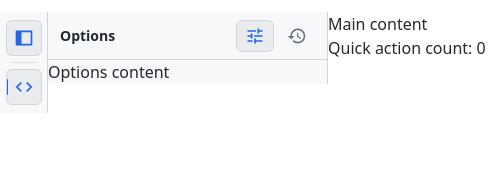
Test case: ToolWorkspaceShell › runs quick actions from the collapsed rail
The width and height of the screenshot is (502, 172).
Click the button named "Close sidebar" at {"x": 24, "y": 38}, box [6, 20, 42, 56]
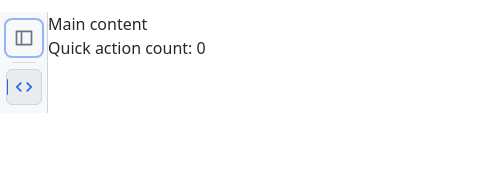
Click the button named "Layout: Split - switch to Unified" at {"x": 24, "y": 87}, box [6, 69, 42, 105]
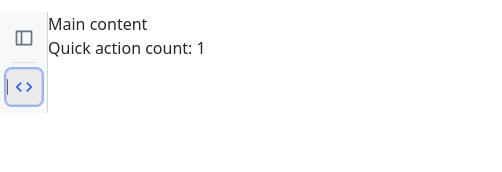
Expected: the text "Quick action count: 1" is shown, [48, 37, 206, 59]
